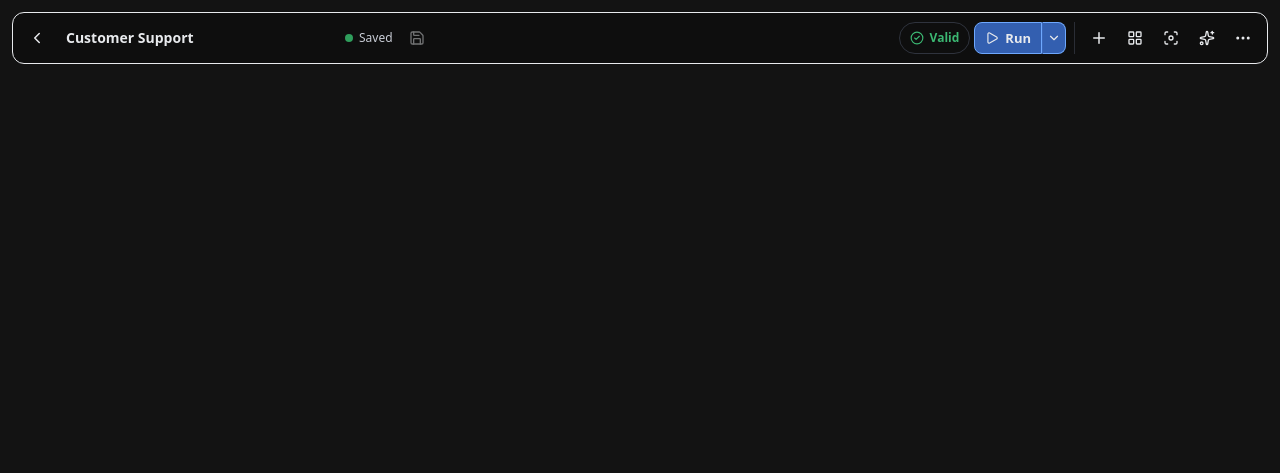
Test case: GraphHeader › moves low-frequency actions into the overflow menu
Check: the button "Releases" is not shown
Check: the button "Export JSON" is not shown
// ...but one click away.
What coordinates should you click on to do the following:
click the button named "More actions"
I would click on:
 (1243, 38)
Its box is [1227,22,1259,54].
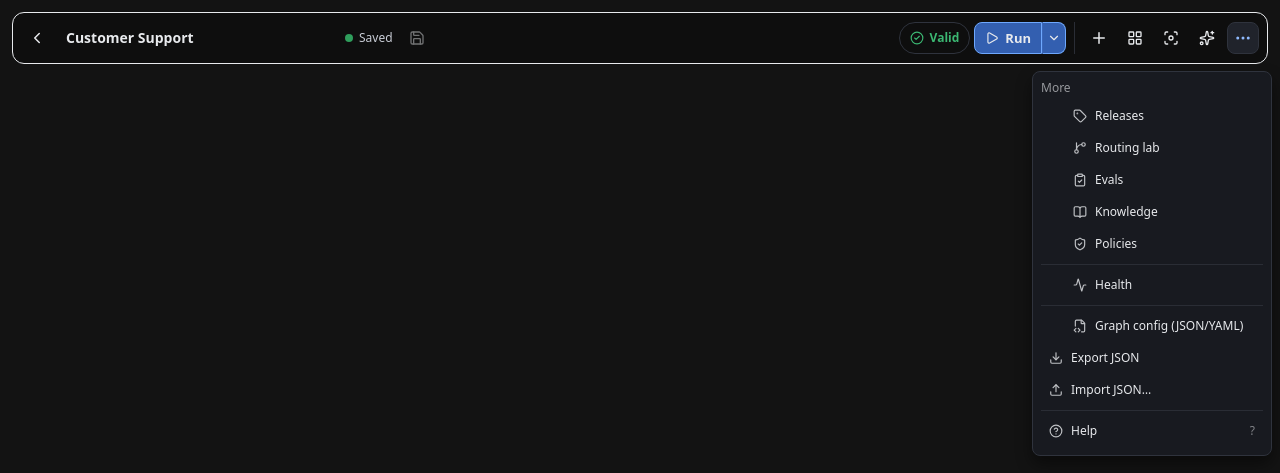
Check: the text "Releases" is shown, box [1095,107,1144,124]
Check: the text "Routing lab" is shown, box [1095,139,1160,156]
Check: the text "Knowledge" is shown, box [1095,203,1158,220]
